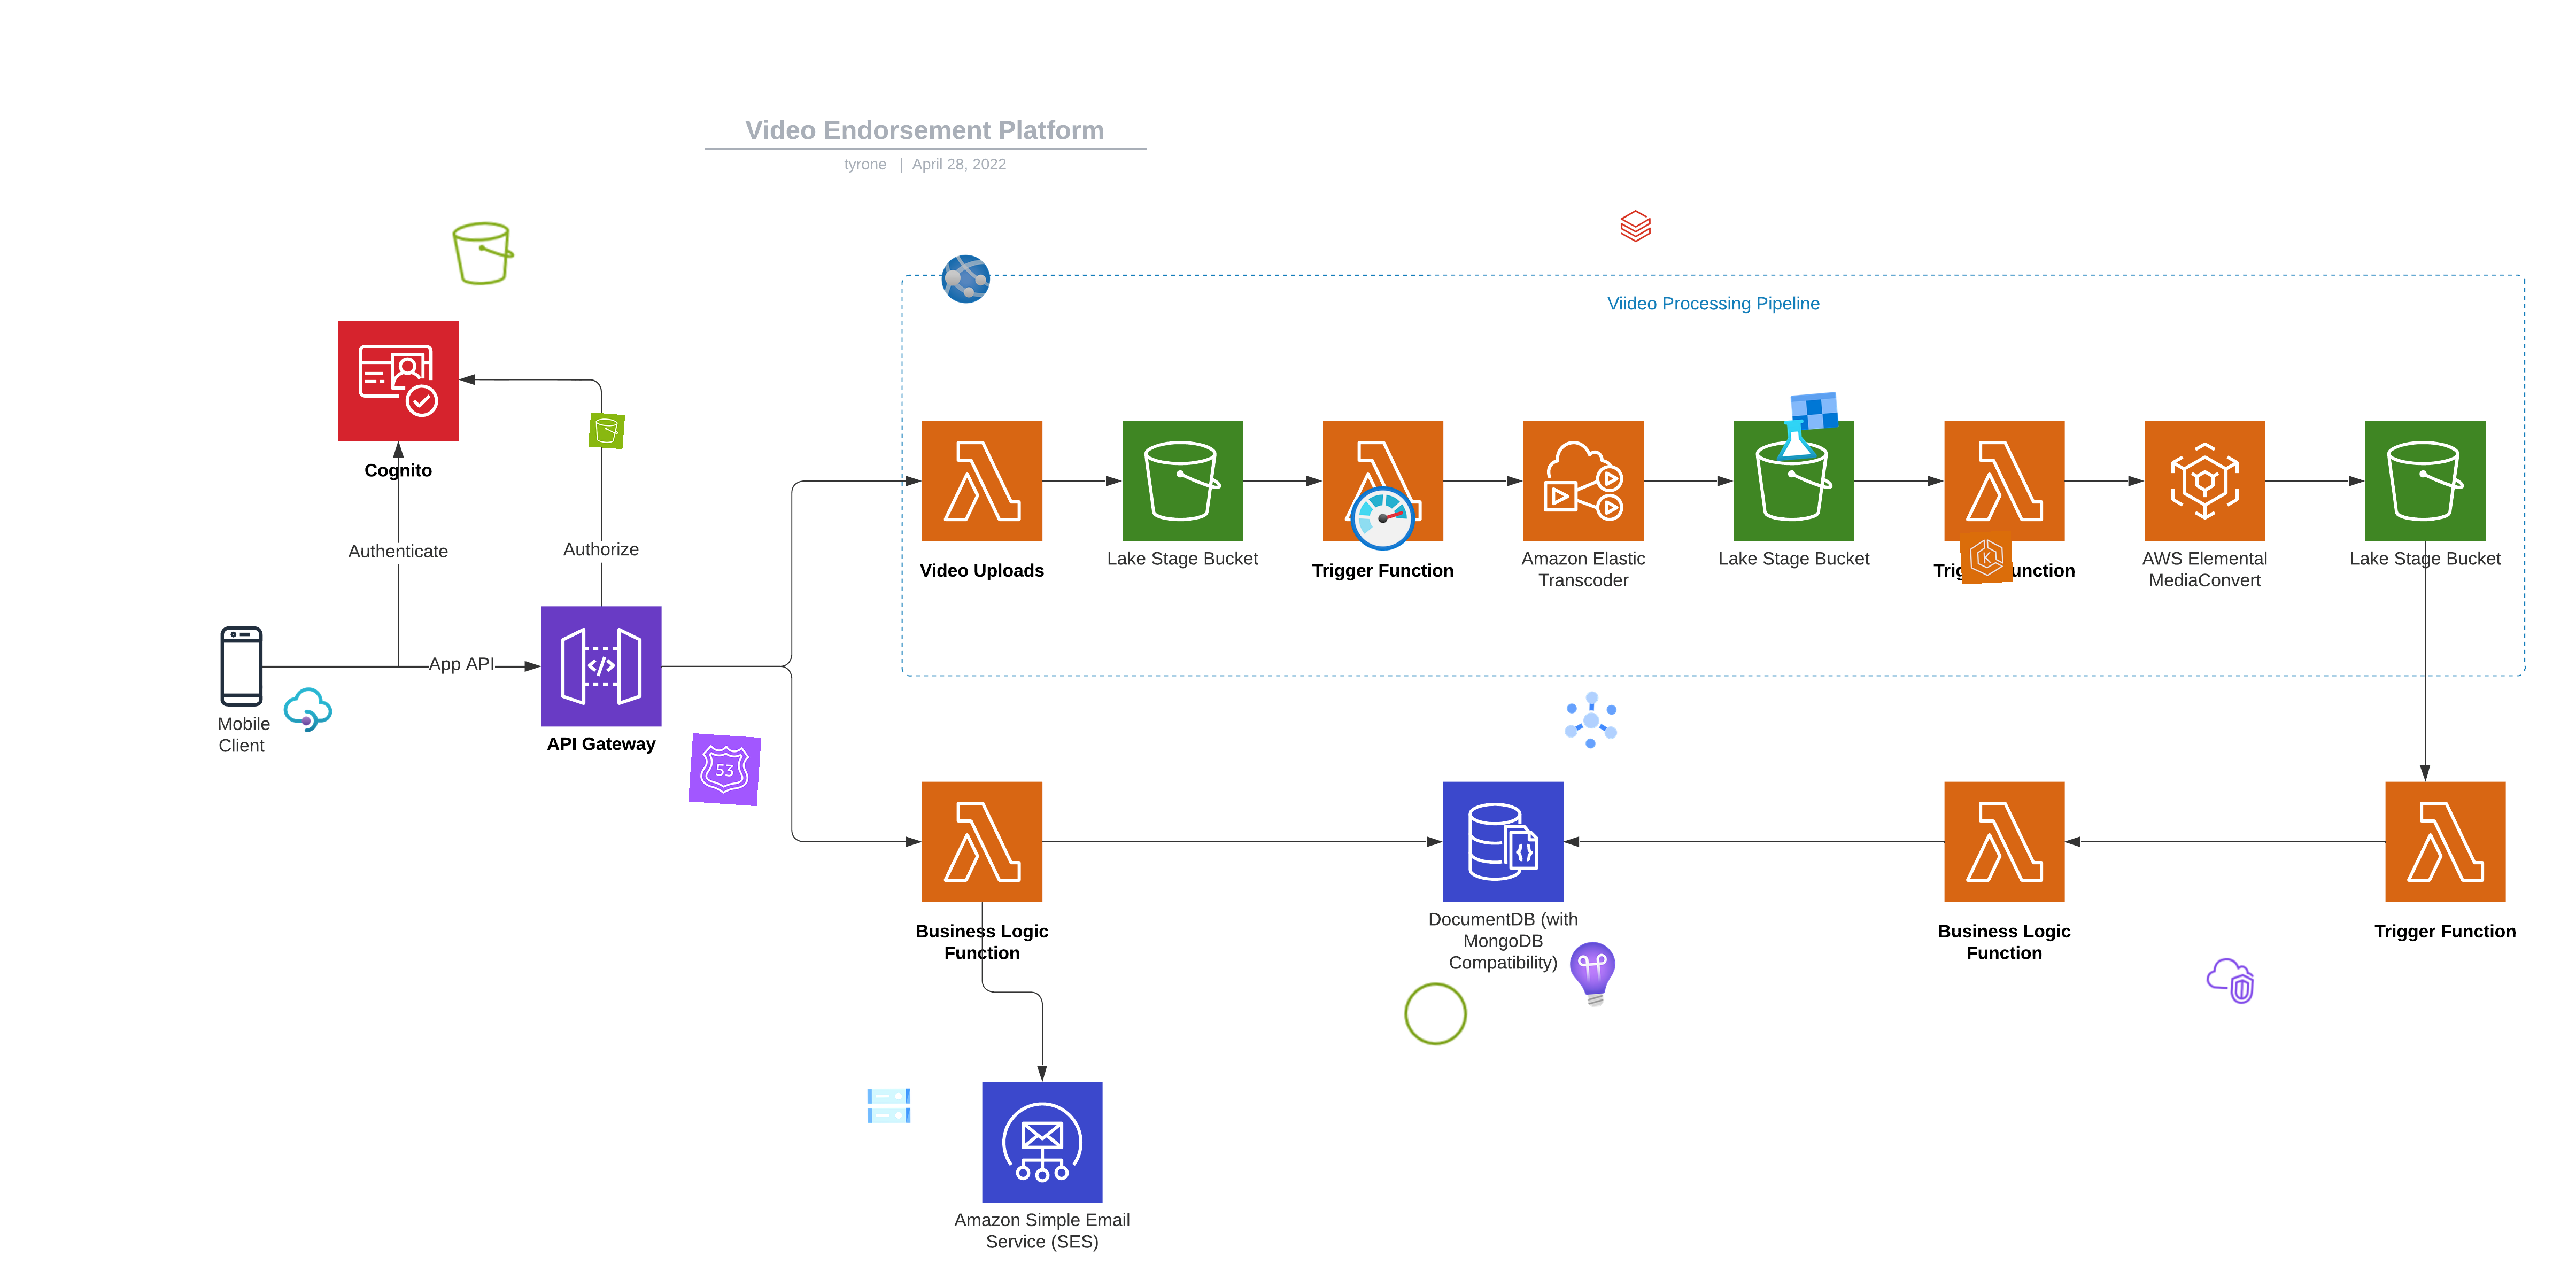aws_amazon_elastic_kubernetes_service: (1960, 530, 2014, 584)
aws_amazon_route_53: (688, 732, 762, 806)
aws_amazon_simple_storage_service: (588, 412, 626, 450)
aws_simple_storage_service_bucket: (447, 217, 521, 289)
aws_simple_storage_service_object: (1400, 977, 1472, 1051)
aws_vpc_virtual_private_cloud_vpc: (2203, 954, 2257, 1008)
azure_api_management_services: (281, 683, 334, 735)
azure_app_services: (940, 253, 992, 305)
azure_application_insights: (1557, 937, 1630, 1011)
azure_databricks: (1618, 208, 1653, 243)
azure_machine_learning_studio_workspaces: (1769, 389, 1843, 465)
azure_monitor: (1346, 481, 1419, 555)
gcp_cloud_storage: (863, 1080, 915, 1133)
gcp_pubsub: (1556, 685, 1626, 755)
